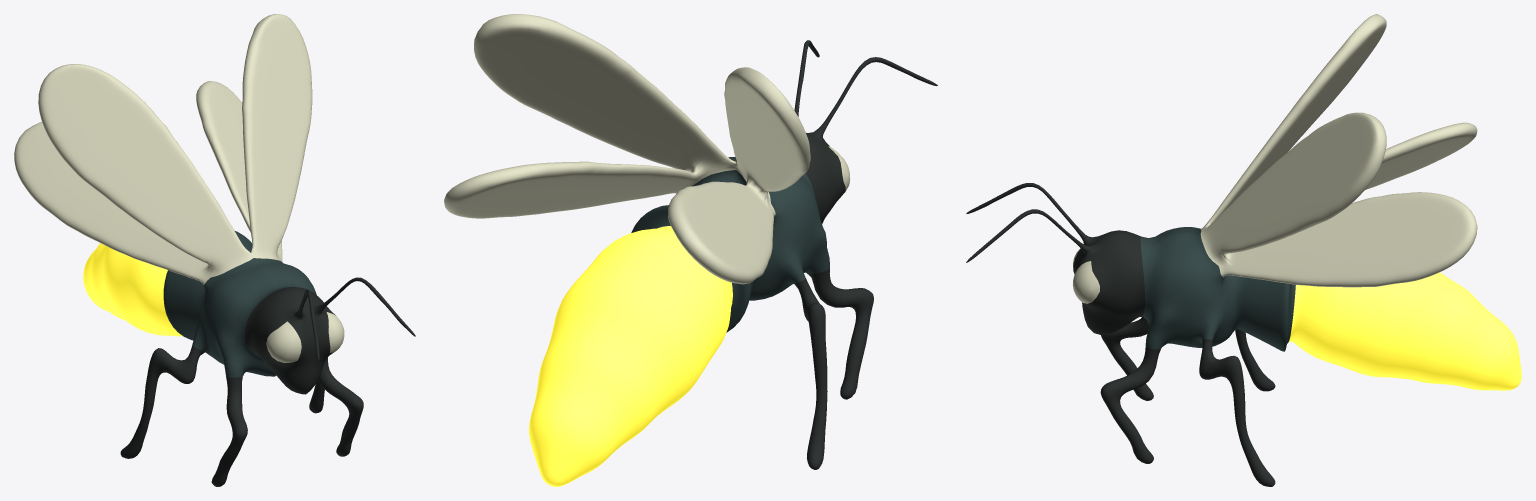
Rendered from MC_Luxia.fbx.
3 views of the same model, side by side, from view 1: azimuth 30°, elevation 25°; view 2: azimuth 150°, elevation 25°; view 3: azimuth 270°, elevation 25° (orthographic). The views are drawn at different scales.
Visible parts, largest first — view 1: Luxia_MC; view 2: Luxia_MC; view 3: Luxia_MC.
Boxes of the visible parts, x1,y1,x2,y2 form: Luxia_MC: [14, 14, 415, 486]; Luxia_MC: [444, 14, 937, 486]; Luxia_MC: [966, 14, 1521, 486].
Bounding box in the file's own units: 14.18 × 18.29 × 24.82.
